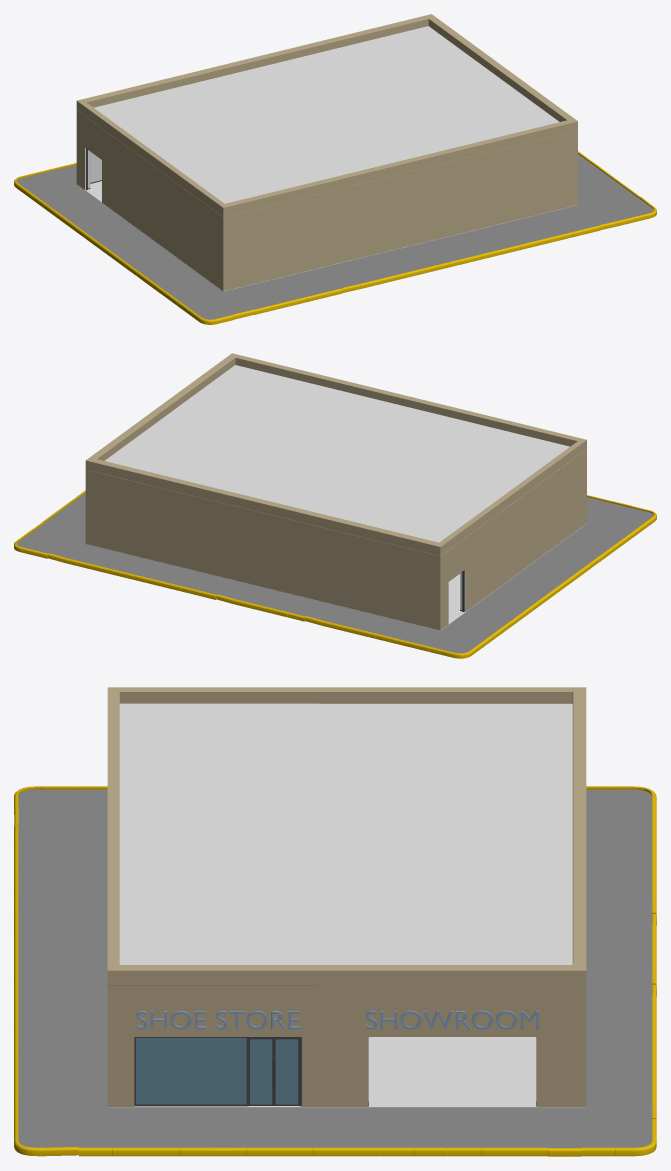
The model's file is Building.fbx.
The picture shows the model from 3 angles, top to bottom: view 1: azimuth 30°, elevation 25°; view 2: azimuth 150°, elevation 25°; view 3: azimuth 270°, elevation 25°; orthographic projection. The views are drawn at different scales.
Visible parts, largest first — view 1: SM_roof, SM_wall, SM_road, SM_border, SM_floor; view 2: SM_roof, SM_wall, SM_road, SM_border, SM_floor; view 3: SM_roof, SM_road, SM_wall, SM_floor, SM_border, SM_window, SM_door_R, SM_door_L, SM_title_2, SM_title_1.
Part boxes in pixels (<box>): SM_roof: <box>76,14,577,216</box>; SM_wall: <box>76,110,577,291</box>; SM_road: <box>17,154,653,319</box>; SM_border: <box>14,151,656,324</box>; SM_floor: <box>76,181,577,291</box>; SM_roof: <box>85,353,586,555</box>; SM_wall: <box>85,449,586,630</box>; SM_road: <box>17,493,653,653</box>; SM_border: <box>14,490,656,658</box>; SM_floor: <box>86,523,586,630</box>; SM_roof: <box>107,687,586,985</box>; SM_road: <box>18,789,652,1147</box>; SM_wall: <box>107,985,586,1106</box>; SM_floor: <box>107,1037,586,1107</box>; SM_border: <box>14,786,656,1156</box>; SM_window: <box>134,1037,301,1106</box>; SM_door_R: <box>274,1038,299,1105</box>; SM_door_L: <box>248,1038,273,1105</box>; SM_title_2: <box>366,1010,538,1029</box>; SM_title_1: <box>136,1011,299,1029</box>.
Size of what is drawn, in the model's own units: 2569 by 469 by 1920.
